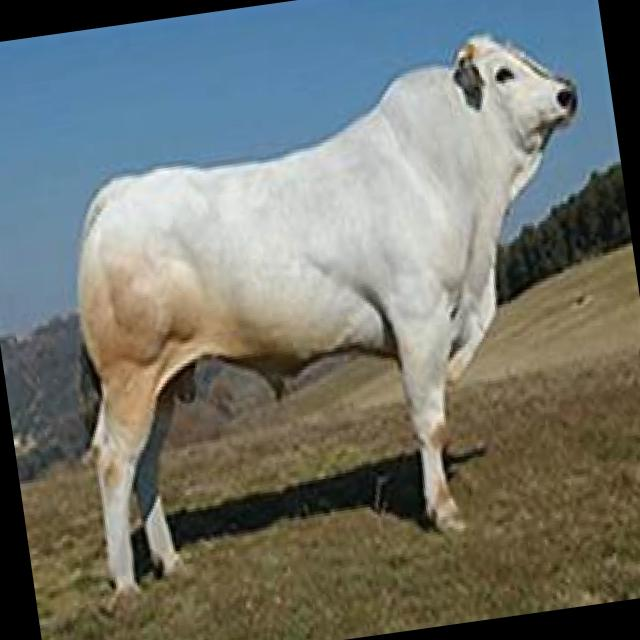cow: (30, 20, 638, 605)
